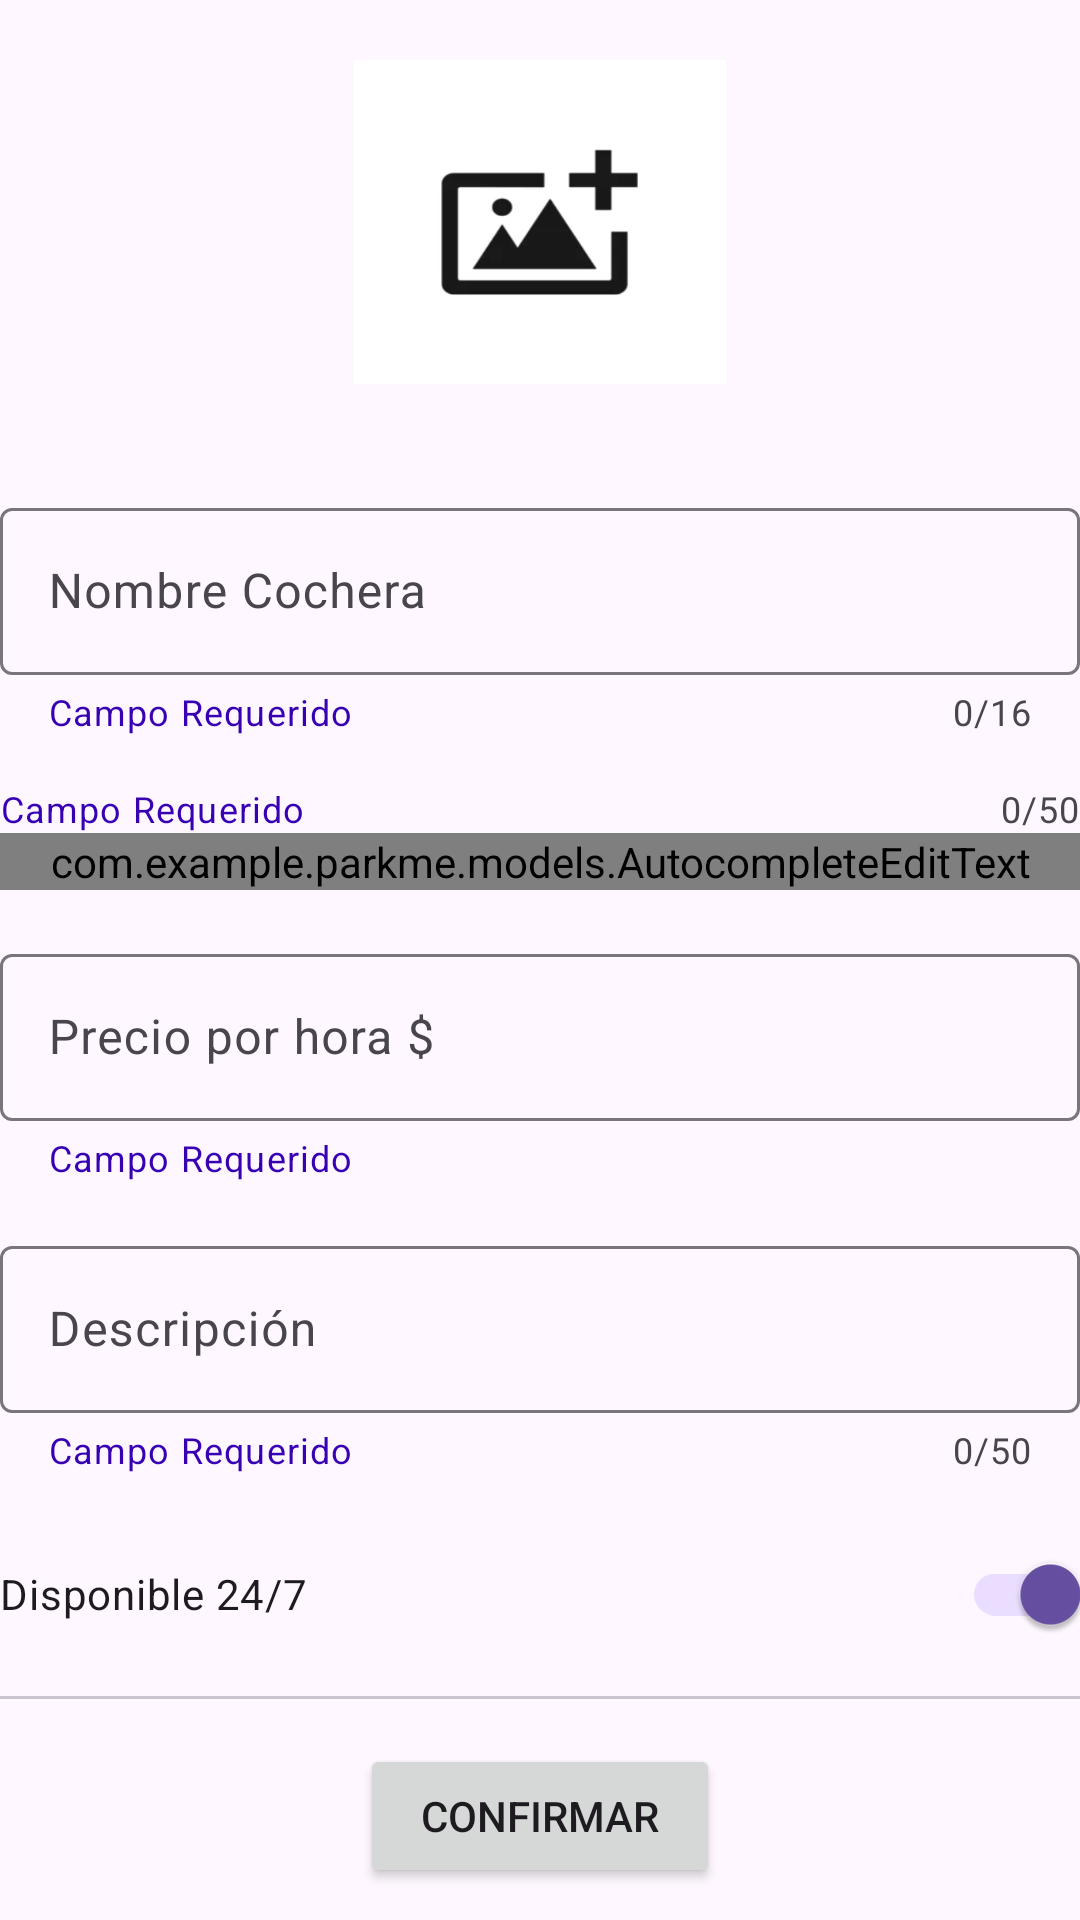

Icon click points for this 1080x1920 phone screenshot, format (x,y):
carga imagen de la cochera: (539,222)
